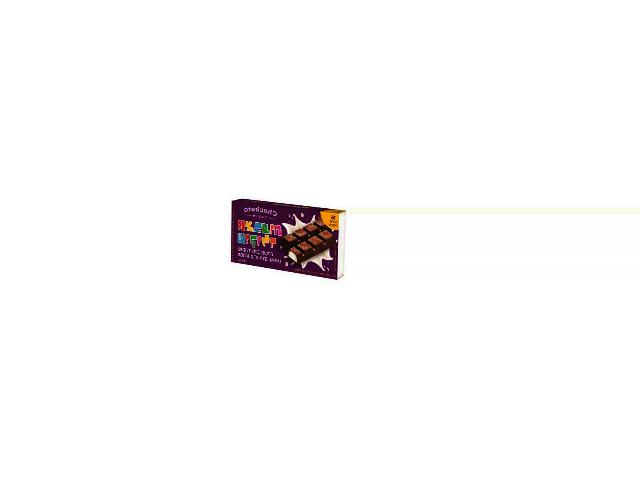chocolate: (222, 198, 347, 274)
